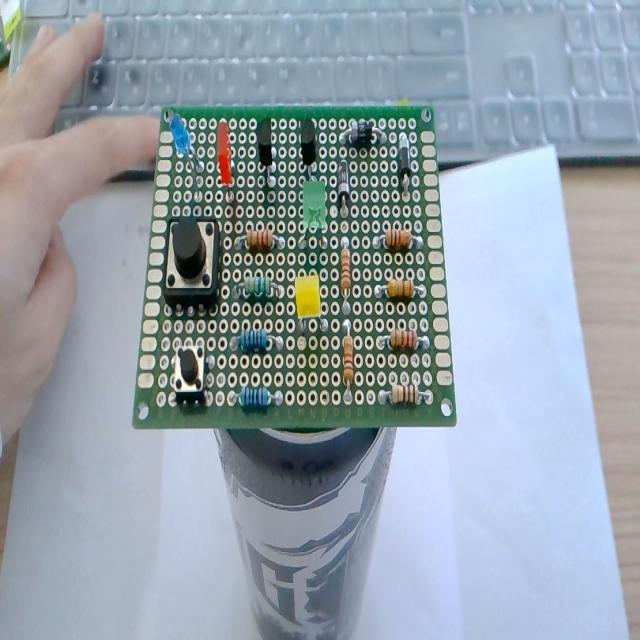diode: (340, 119, 384, 149), (337, 158, 351, 227), (398, 133, 412, 195)
led: (170, 112, 201, 201), (301, 178, 328, 248), (294, 272, 323, 337), (217, 122, 234, 209)
resistor: (234, 275, 283, 301), (229, 385, 284, 407), (232, 326, 280, 350), (381, 385, 431, 407), (376, 228, 422, 251), (236, 230, 284, 252), (376, 282, 425, 303), (381, 332, 428, 352), (342, 333, 355, 401), (341, 249, 351, 292)
switch: (162, 213, 222, 310), (172, 344, 208, 404)
transistor: (257, 117, 277, 187), (300, 119, 316, 168)
